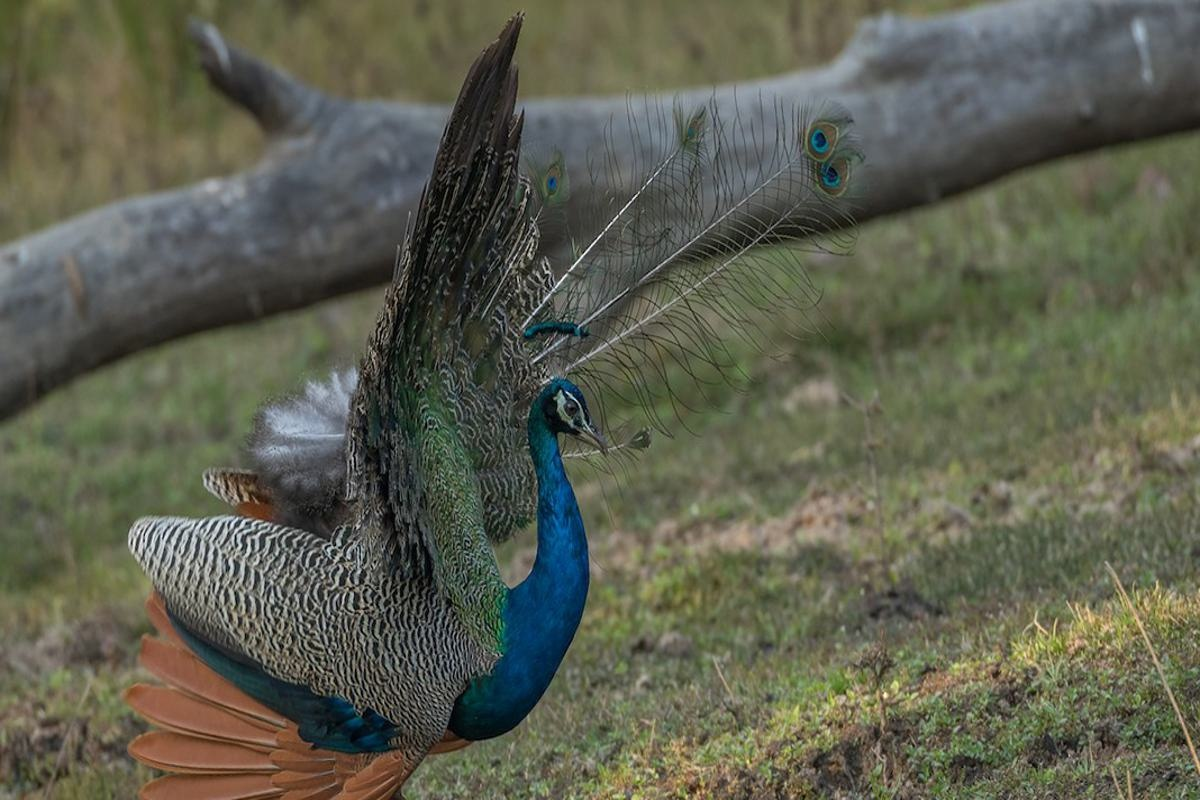peacock: (88, 97, 885, 800)
